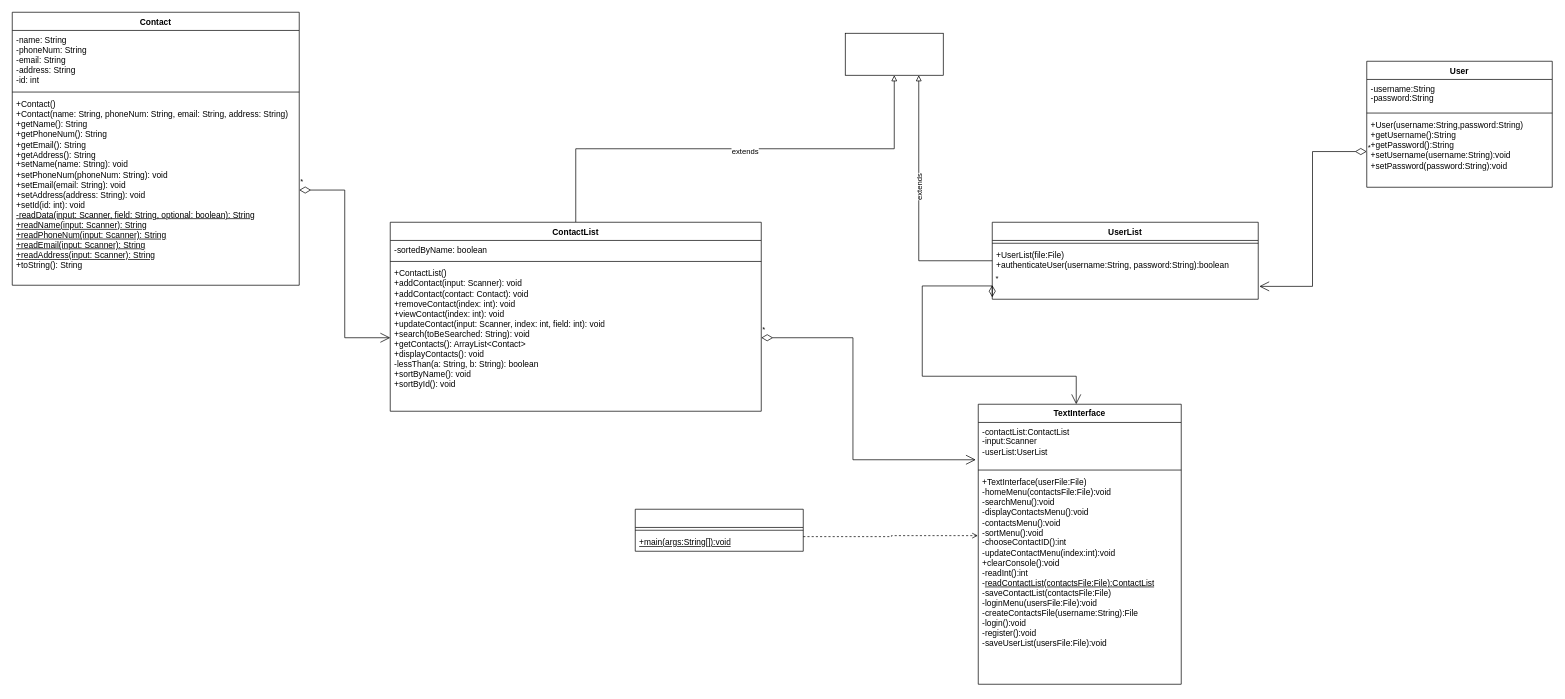
Some shapes in this 1565 by 699 pixel diagram are drawn without their labels. Here are the shapes that lost their labels. From the top down, the box of each, then its label:
(845, 33, 943, 75): ArrayList<Contact>
(635, 509, 803, 551): ContactManagementSystem
